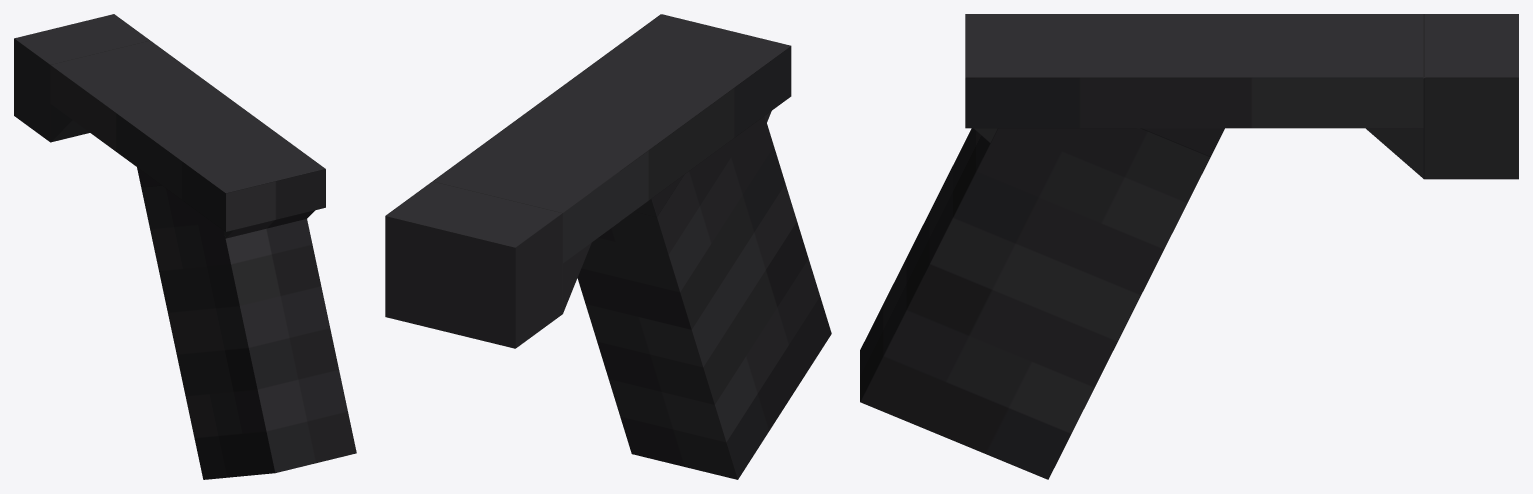
Rendered from short girp.obj.
3 renders of one model, left to right at view 1: azimuth 30°, elevation 25°; view 2: azimuth 150°, elevation 25°; view 3: azimuth 270°, elevation 25°, orthographic. The views are drawn at different scales.
Parts seen in each view (by area): view 1: gun_6; view 2: gun_6; view 3: gun_6.
Boxes of the visible parts, x1=… form: gun_6: x1=14, y1=14, x2=356, y2=479; gun_6: x1=385, y1=14, x2=831, y2=479; gun_6: x1=860, y1=14, x2=1518, y2=479.
Size of the model in its own units: 0.1687 by 0.5033 by 0.7363.
